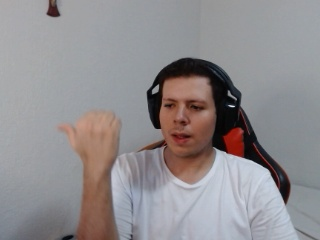Derecha: (48, 106, 132, 181)
